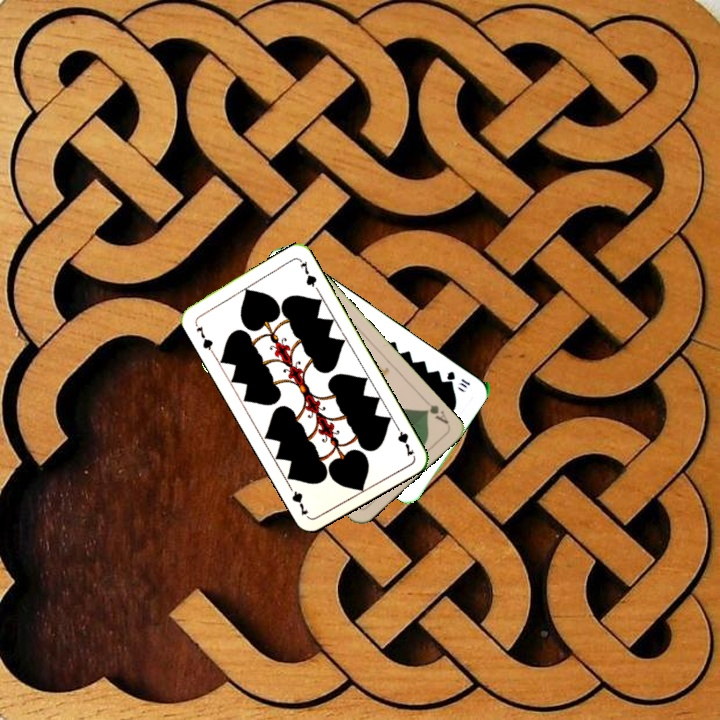G10: (442, 367, 473, 392)
G7: (391, 420, 417, 459), (191, 318, 216, 356)
GA: (420, 400, 451, 427)
